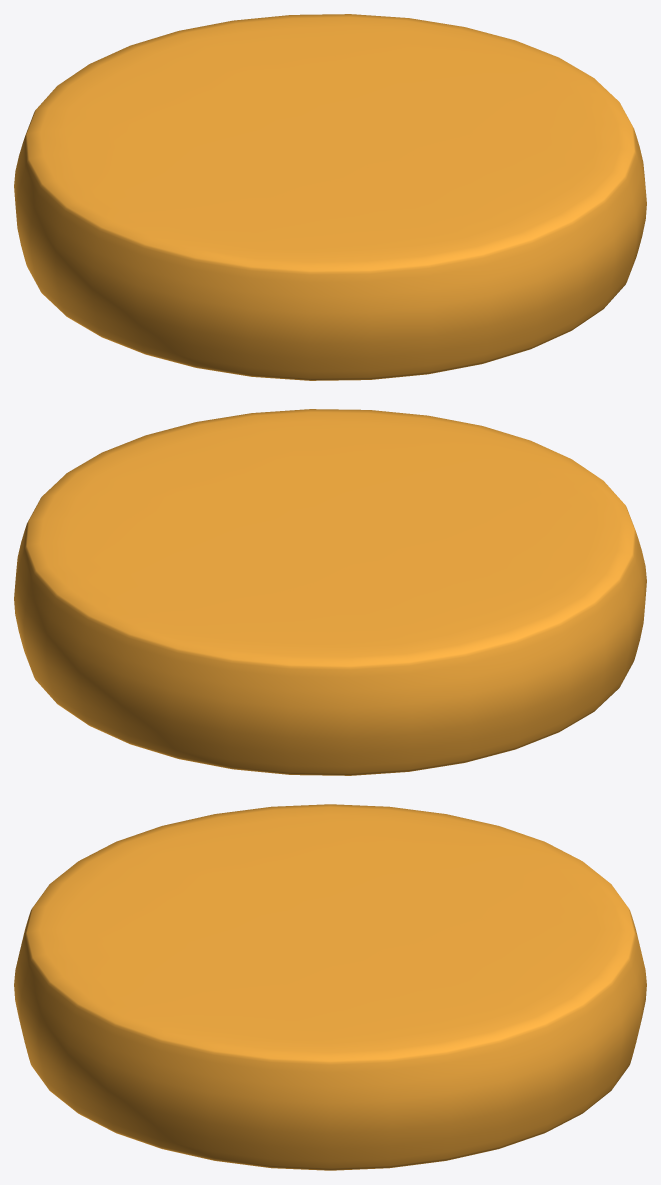
File: MiddleBread.fbx
3 views of the same model, one above another, from view 1: azimuth 30°, elevation 25°; view 2: azimuth 150°, elevation 25°; view 3: azimuth 270°, elevation 25° (orthographic).
Parts seen in each view (by area): view 1: Cutlet.001; view 2: Cutlet.001; view 3: Cutlet.001.
Part boxes in pixels (left/top/right/bottom): Cutlet.001: left=14, top=14, right=646, bottom=380; Cutlet.001: left=14, top=409, right=646, bottom=775; Cutlet.001: left=14, top=804, right=646, bottom=1170.
Size of the model in its own units: 1175 by 245 by 1175.
